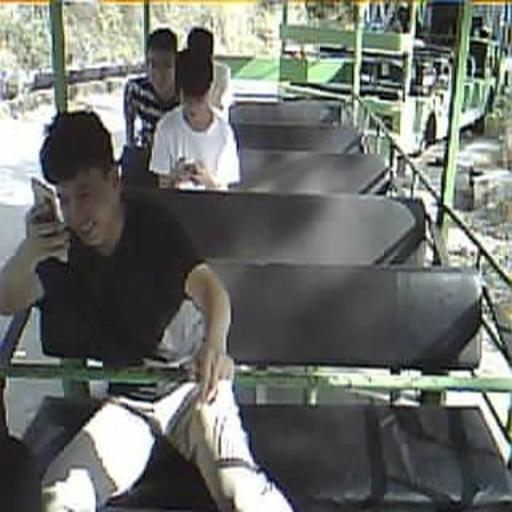persona: (32, 108, 298, 511), (149, 26, 242, 191), (122, 28, 180, 145), (181, 26, 233, 122)
